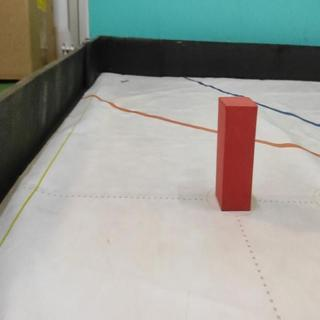redbox: (214, 95, 259, 212)
